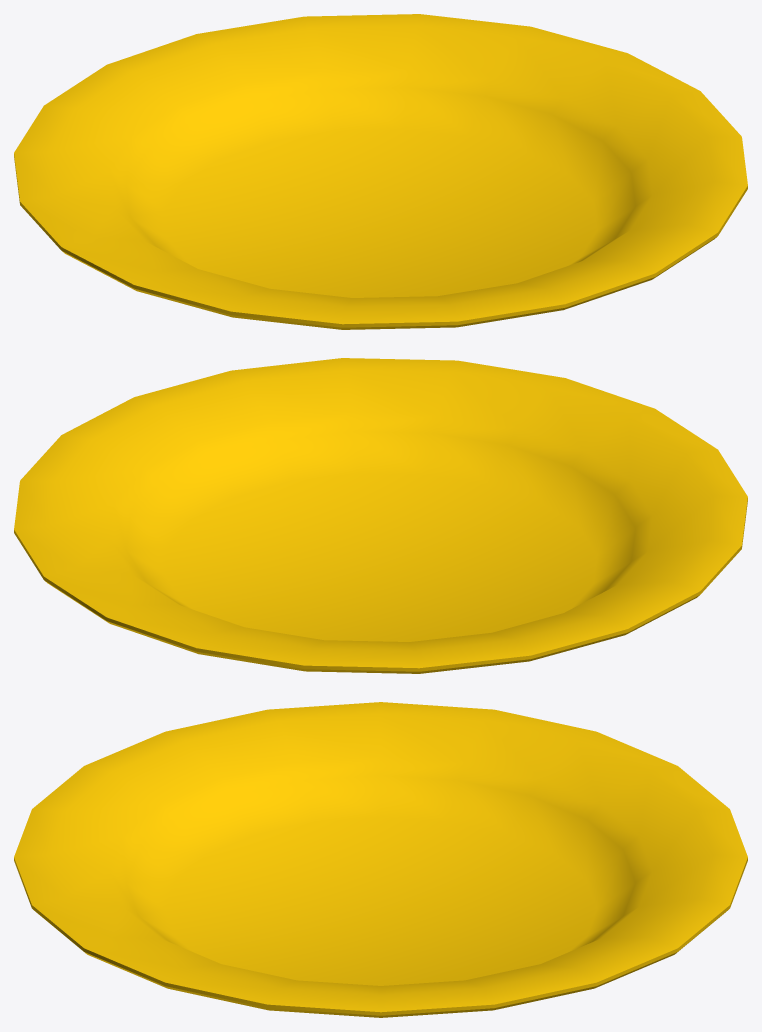
File: YellowPlate.fbx
3 views of the same model, one above another, from view 1: azimuth 30°, elevation 25°; view 2: azimuth 150°, elevation 25°; view 3: azimuth 270°, elevation 25° (orthographic).
Visible parts, largest first — view 1: pCylinder1; view 2: pCylinder1; view 3: pCylinder1.
Boxes of the visible parts, x1,y1,x2,y2 form: pCylinder1: (14,14,747,329); pCylinder1: (14,358,747,673); pCylinder1: (14,702,747,1017).
Bounding box in the file's own units: 2.52 × 0.2146 × 2.52.
